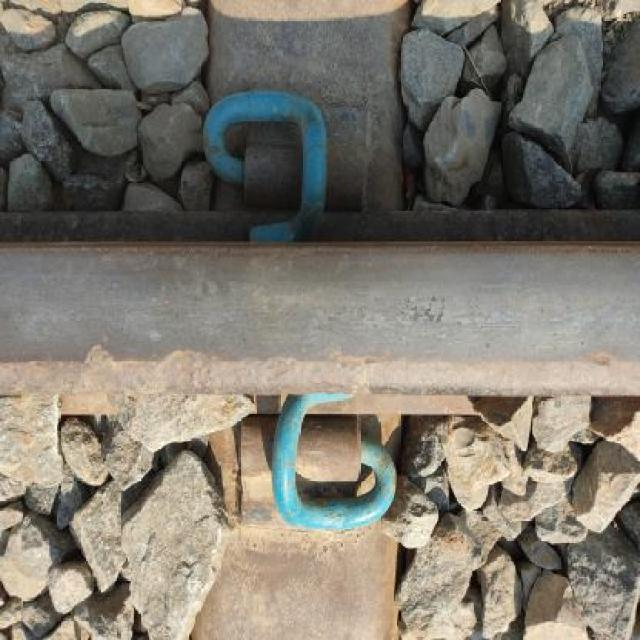non-defective: (3, 185, 640, 486)
